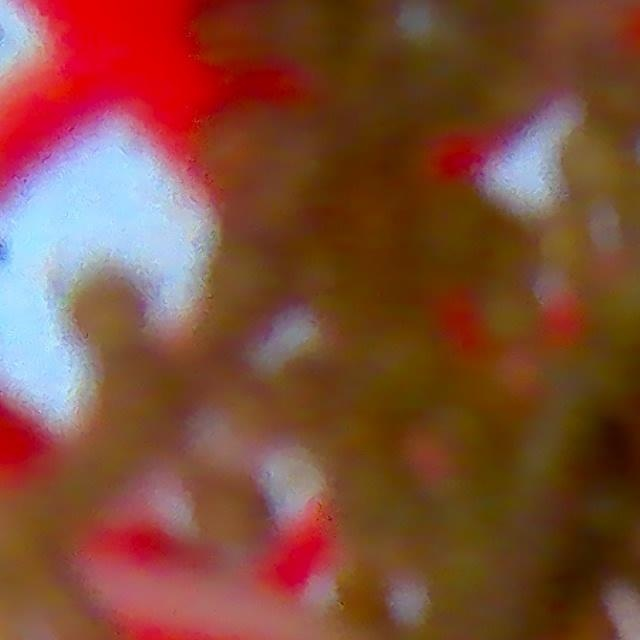SeaGrape: (323, 460, 428, 578), (551, 128, 633, 210), (437, 415, 505, 491), (478, 286, 544, 352), (574, 482, 638, 548)
